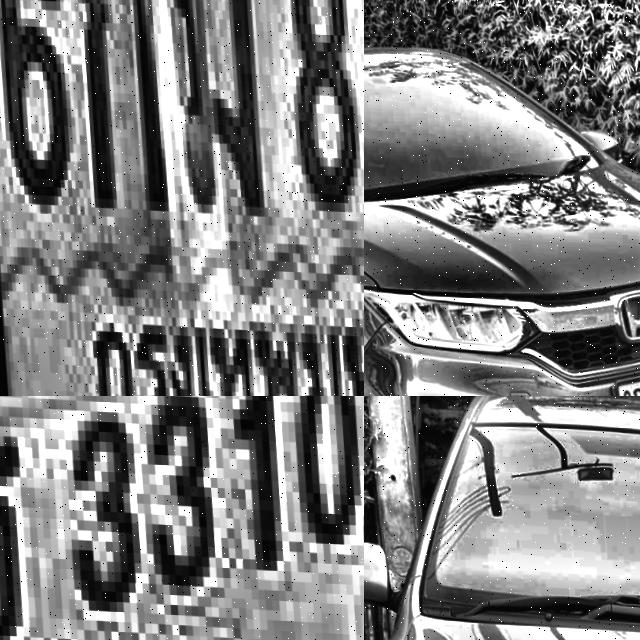license-plate: (0, 0, 364, 396), (0, 396, 364, 640)
